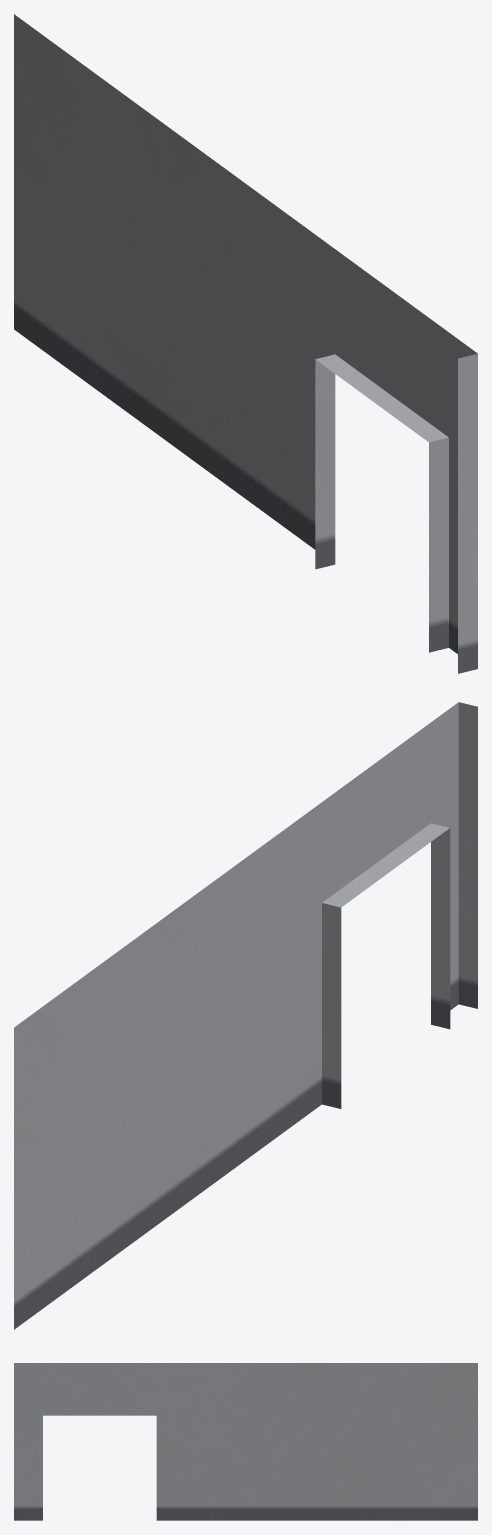
The model's file is BgMD_Tanihira_Wall_0301.fbx.
3 views of the same model, one above another, from view 1: azimuth 30°, elevation 25°; view 2: azimuth 150°, elevation 25°; view 3: azimuth 270°, elevation 25° (orthographic). The views are drawn at different scales.
Parts seen in each view (by area): view 1: polySurface191; view 2: polySurface191; view 3: polySurface191.
Part boxes in pixels (left/top/right/bottom): polySurface191: left=14, top=14, right=477, bottom=673; polySurface191: left=14, top=702, right=477, bottom=1329; polySurface191: left=14, top=1363, right=477, bottom=1520.
Size of the model in its own units: 20 by 300 by 800.
